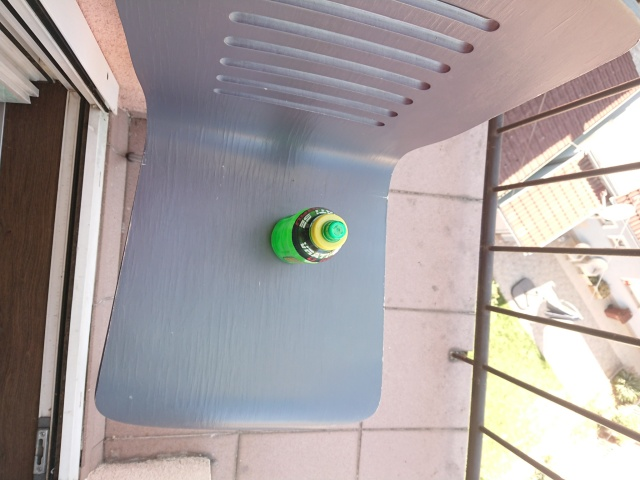Vindi Iso Sport Lemon-Grapefruit 500mL: (267, 205, 351, 267)
